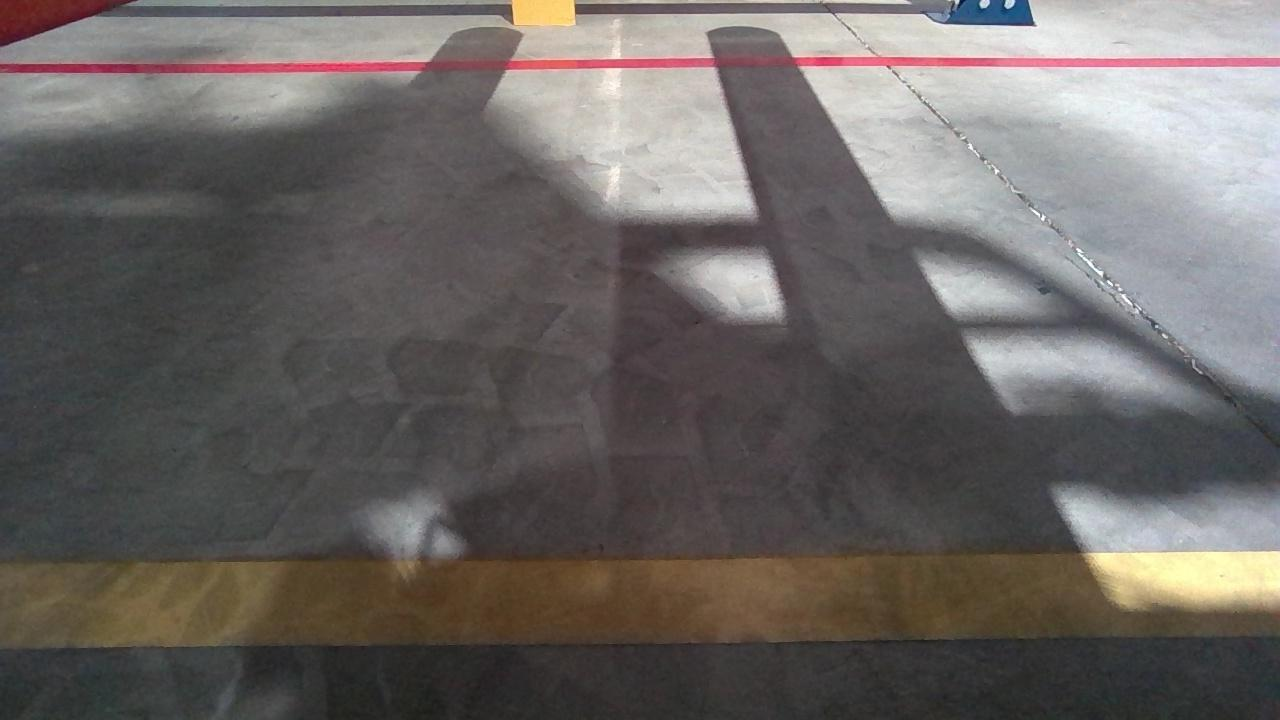orange_strip: (512, 0, 575, 24)
red_line: (2, 54, 1280, 76)
yellow_line: (0, 553, 1280, 643)
